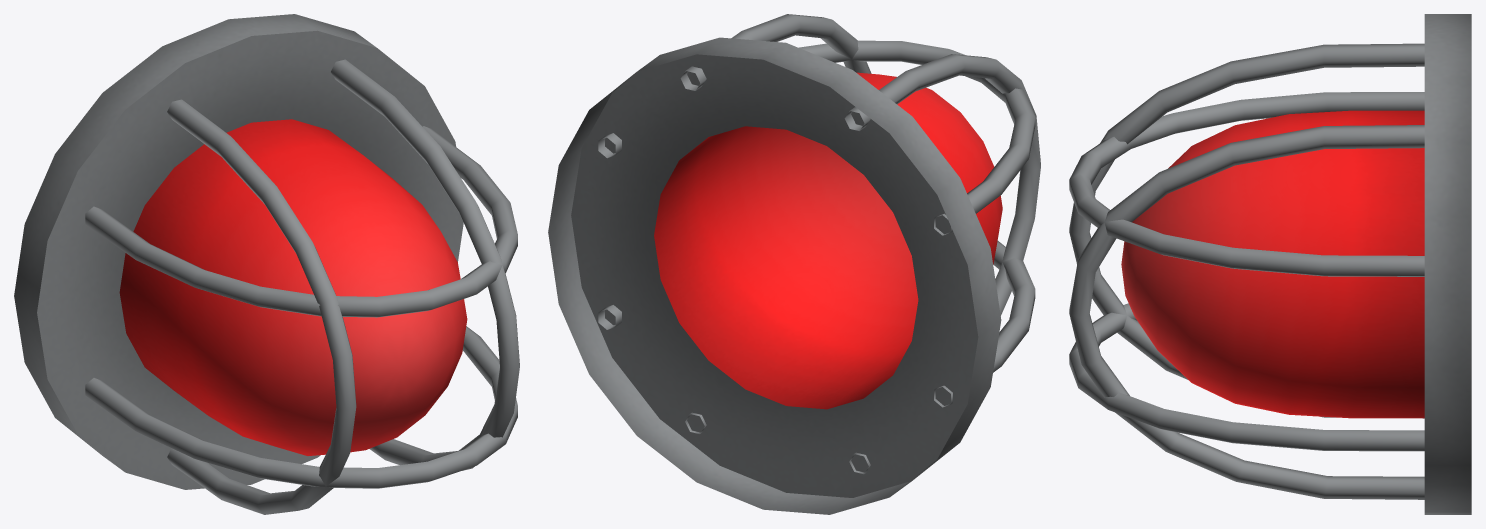
File: siren.fbx
3 views of the same model, side by side, from view 1: azimuth 30°, elevation 25°; view 2: azimuth 150°, elevation 25°; view 3: azimuth 270°, elevation 25° (orthographic).
Parts seen in each view (by area): view 1: siren; view 2: siren; view 3: siren.
Part boxes in pixels (bbox=[...]): siren: bbox=[14, 14, 519, 514]; siren: bbox=[548, 14, 1040, 514]; siren: bbox=[1069, 14, 1471, 514].
Size of the model in its own units: 0.2508 by 0.2507 by 0.1998.
